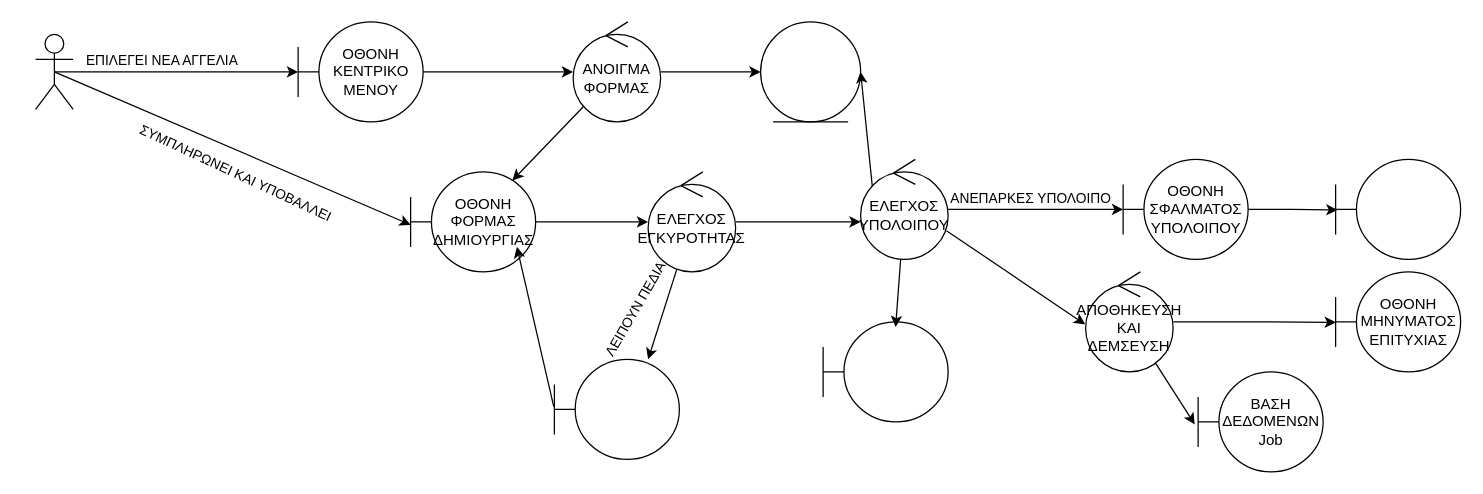
Some shapes in this 1483 by 494 pixel diagram are drawn without their labels. The centre of each missing label's shape, as x and y in pixels:
ΒΑΣΗ ΔΕΔΟΜΕΝΩΝ Tag: (810,71)
ΒΑΣΗ ΔΕΔΟΜΕΝΩΝ Wallet: (885,371)
ΕΤΑΙΡΕΙΑ: (53,71)
ΟΘΟΝΗ ΣΦΑΛΜΑΤΟΣ ΦΟΡΜΑΣ: (616,408)
ΟΘΟΝΗ ΦΟΡΤΙΣΗΣ: (1397,208)
